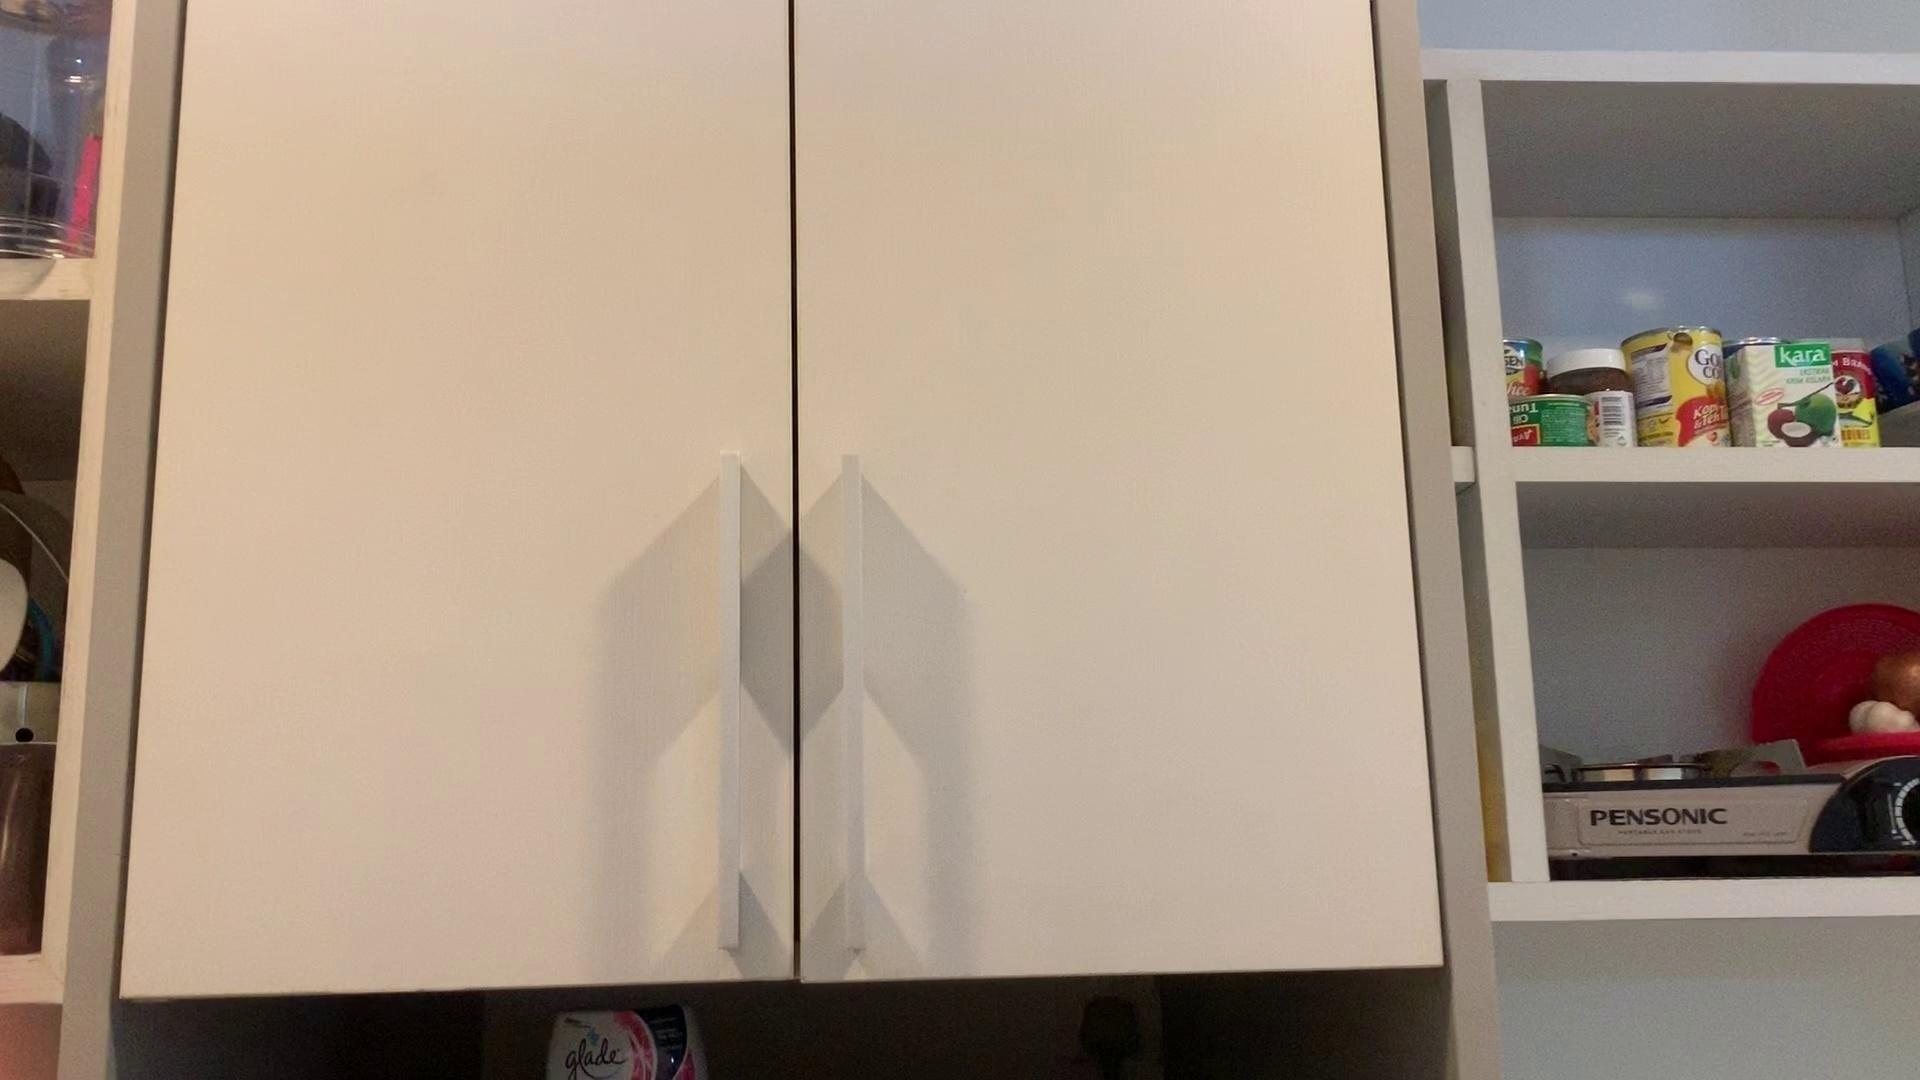cabinet_door: (157, 0, 793, 993), (815, 1, 1406, 990)
handle: (825, 455, 889, 976), (707, 444, 757, 978)
